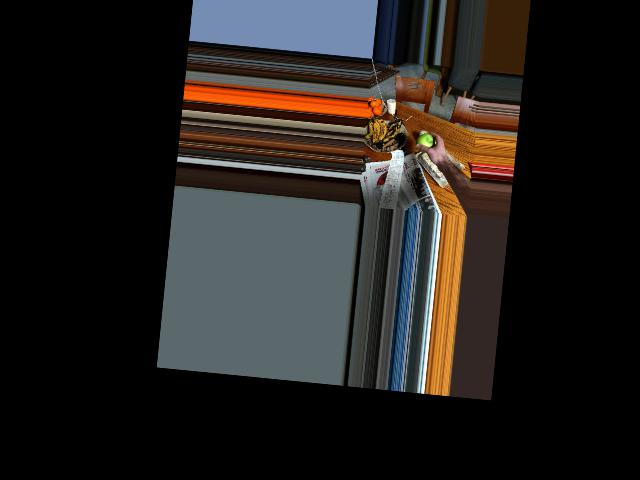apple: (415, 131, 436, 153)
